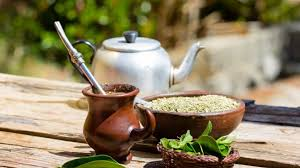guampa: (37, 20, 157, 163)
